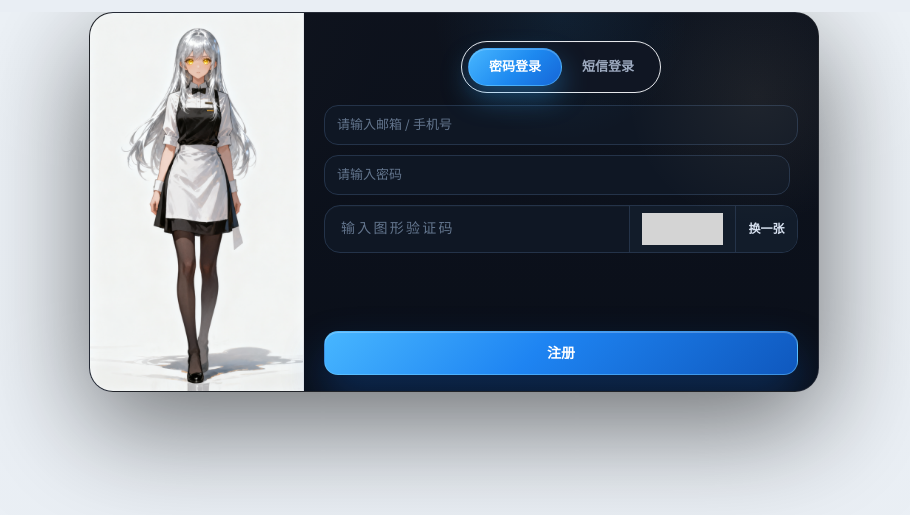
Test: AuthEntryPage › shows a clear password length error during signup
Type "owner@example.com" into the field with placeholder "请输入邮箱 / 手机号" at point(561, 124), box x1=324 y1=104 x2=798 y2=144
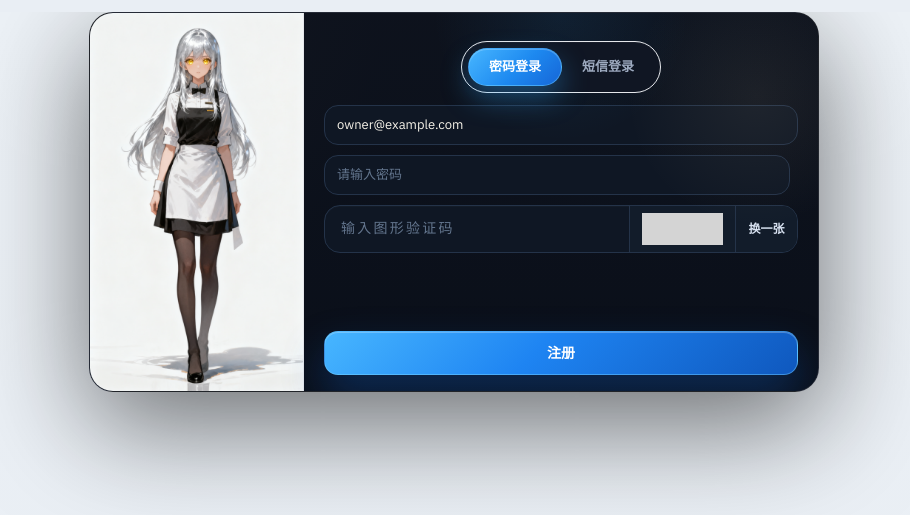
Type "ABCD1" into the field with placeholder "输入图形验证码" at point(477, 228), box x1=325 y1=206 x2=629 y2=252
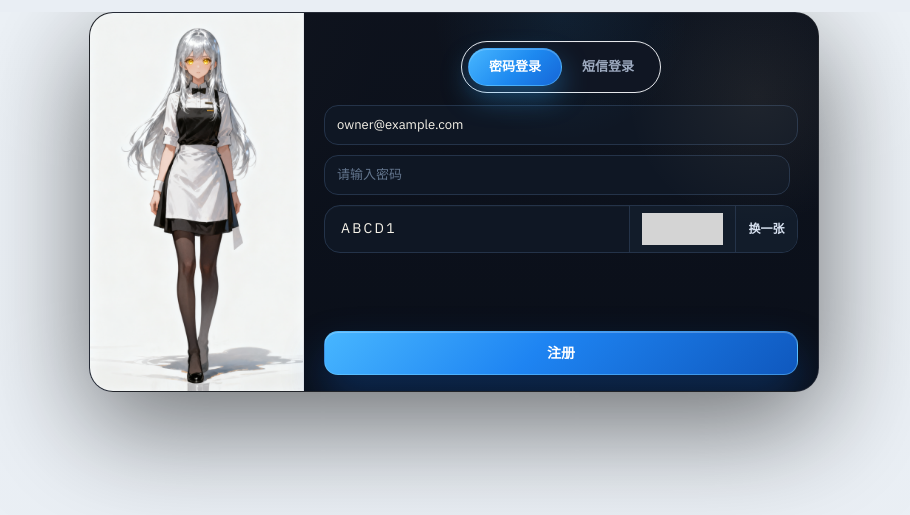
Type "12345" into the password field with placeholder "请输入密码" at point(557, 174), box x1=324 y1=154 x2=790 y2=194
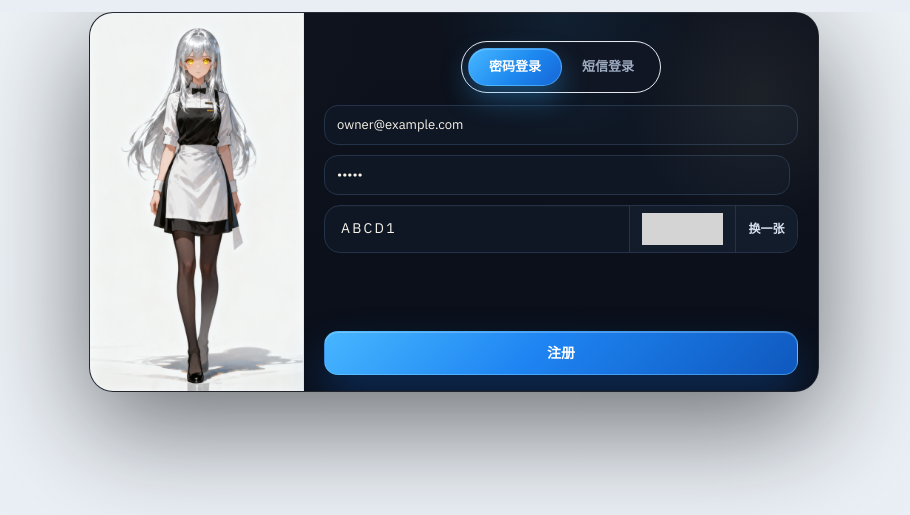
Click the button with aria-label "主注册按钮" at point(561, 353), box x1=324 y1=331 x2=798 y2=375
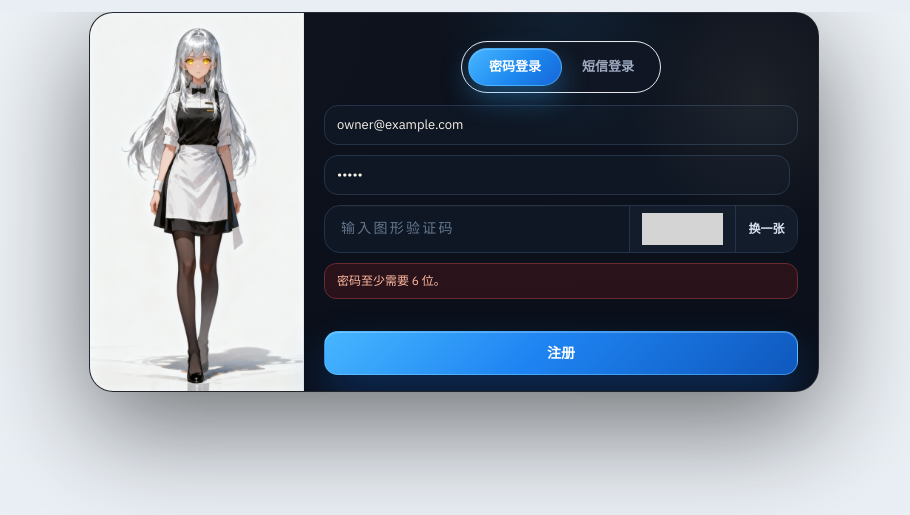
Check: the text "密码至少需要 6 位。" is shown, box x1=324 y1=262 x2=798 y2=298
